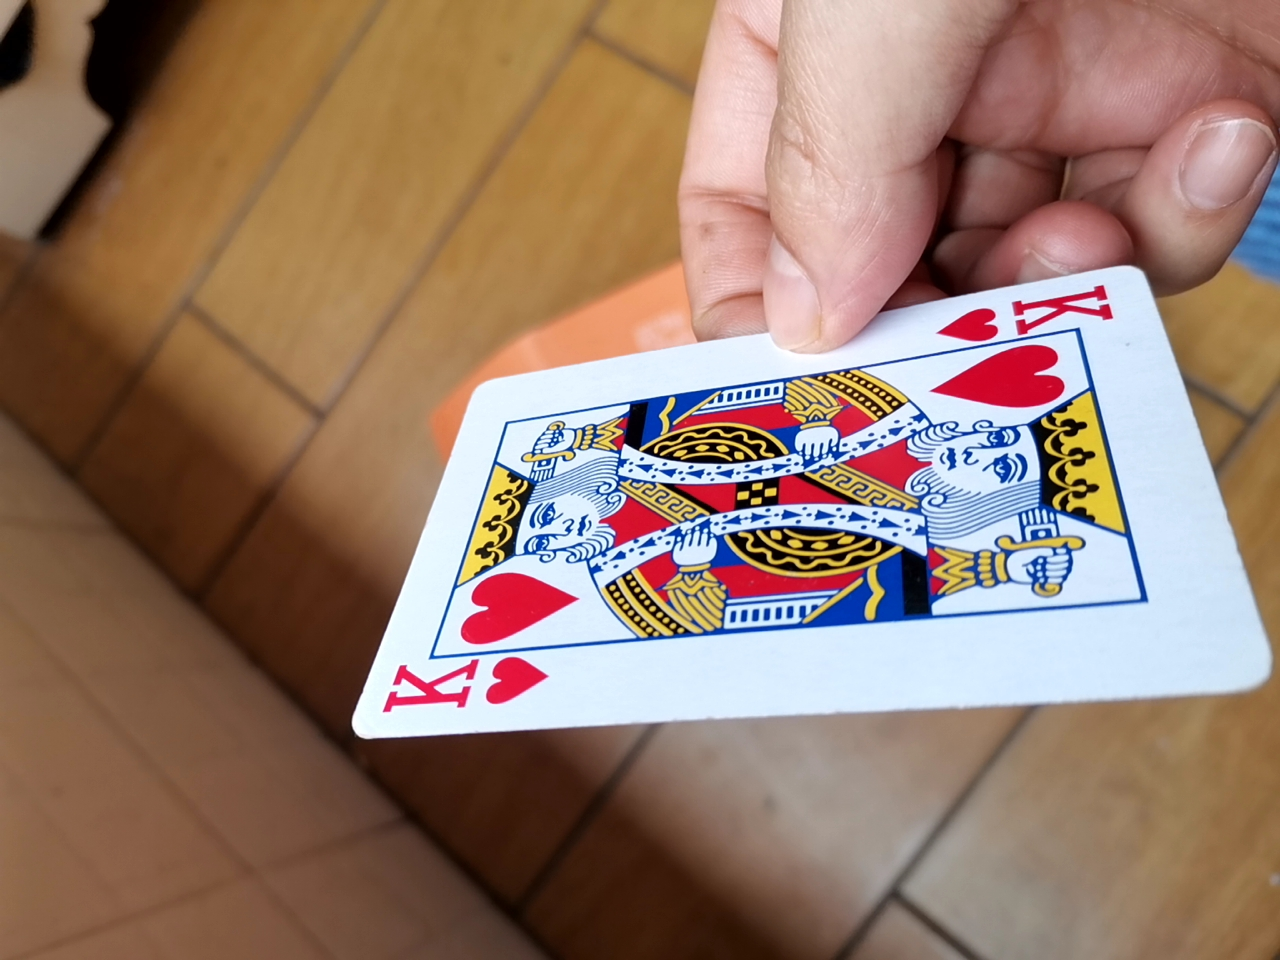hx k: (345, 282, 1258, 726)
